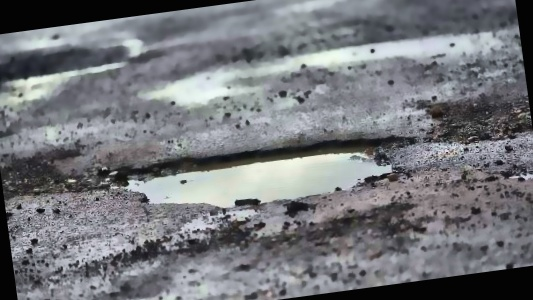pothole: (106, 125, 408, 225)
